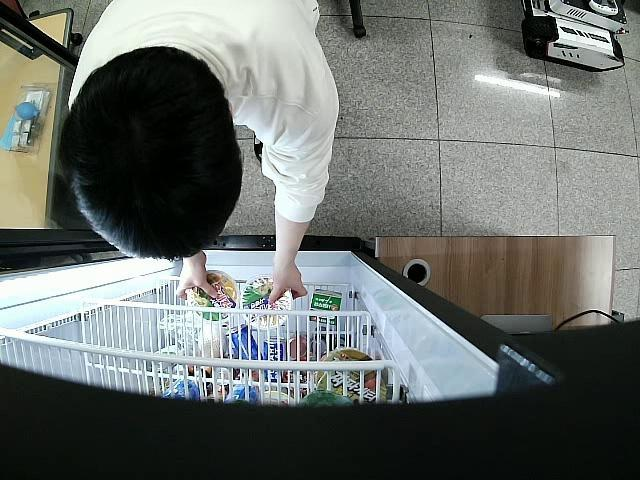09_yukGaeJang: (188, 268, 240, 322), (242, 274, 292, 329)
